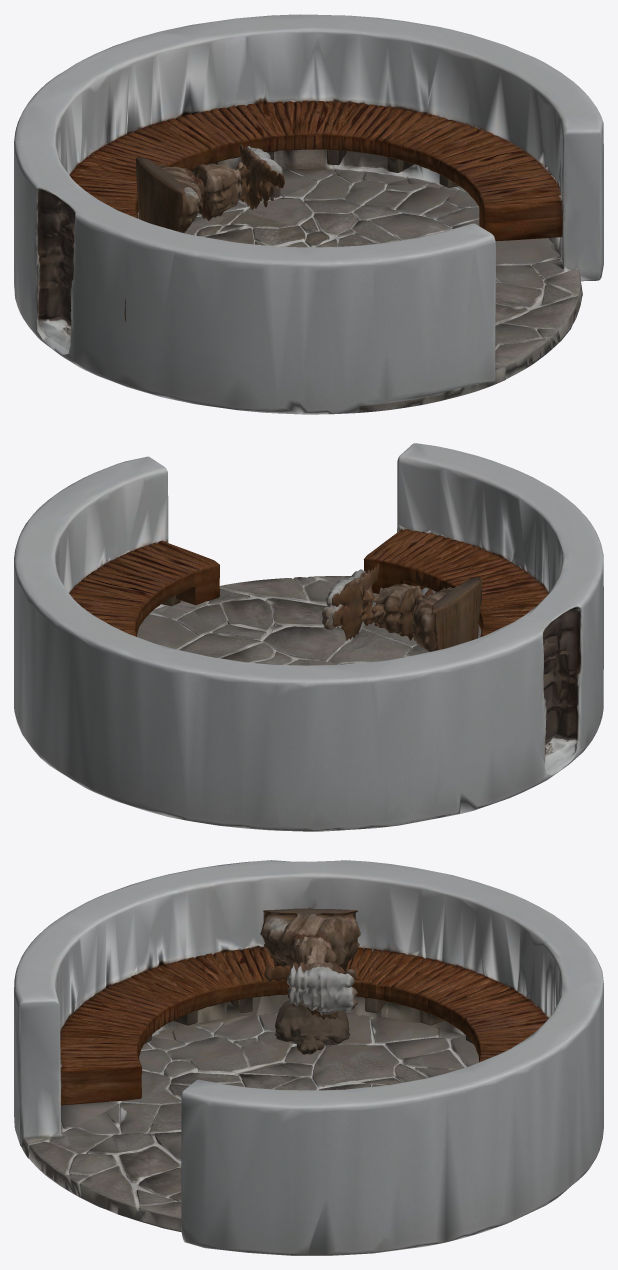
The model's file is seatbowl.glb.
3 renders of one model, top to bottom at view 1: azimuth 30°, elevation 25°; view 2: azimuth 150°, elevation 25°; view 3: azimuth 270°, elevation 25°, orthographic.
Parts seen in each view (by area): view 1: tripo_node_d350f1d2-0da8-4a9d-b4f4-1c8ba24df5ca; view 2: tripo_node_d350f1d2-0da8-4a9d-b4f4-1c8ba24df5ca; view 3: tripo_node_d350f1d2-0da8-4a9d-b4f4-1c8ba24df5ca.
Boxes of the visible parts, x1=… form: tripo_node_d350f1d2-0da8-4a9d-b4f4-1c8ba24df5ca: x1=14, y1=14, x2=603, y2=414; tripo_node_d350f1d2-0da8-4a9d-b4f4-1c8ba24df5ca: x1=14, y1=443, x2=603, y2=831; tripo_node_d350f1d2-0da8-4a9d-b4f4-1c8ba24df5ca: x1=14, y1=860, x2=603, y2=1255.
Bounding box in the file's own units: 2.82 × 0.7999 × 2.83.
1 material, 1 textured.
